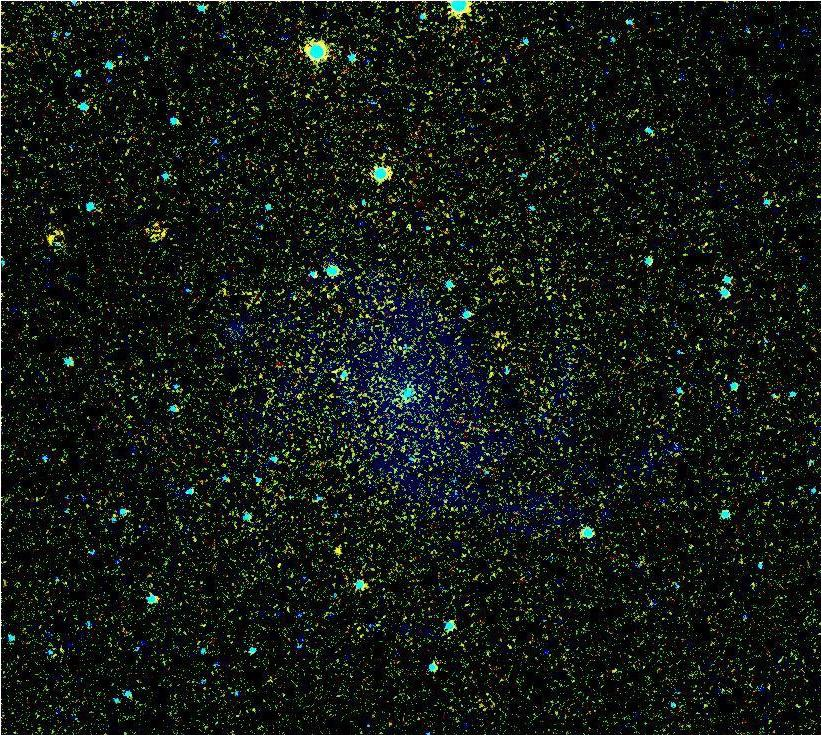star: (322, 535, 352, 565)
